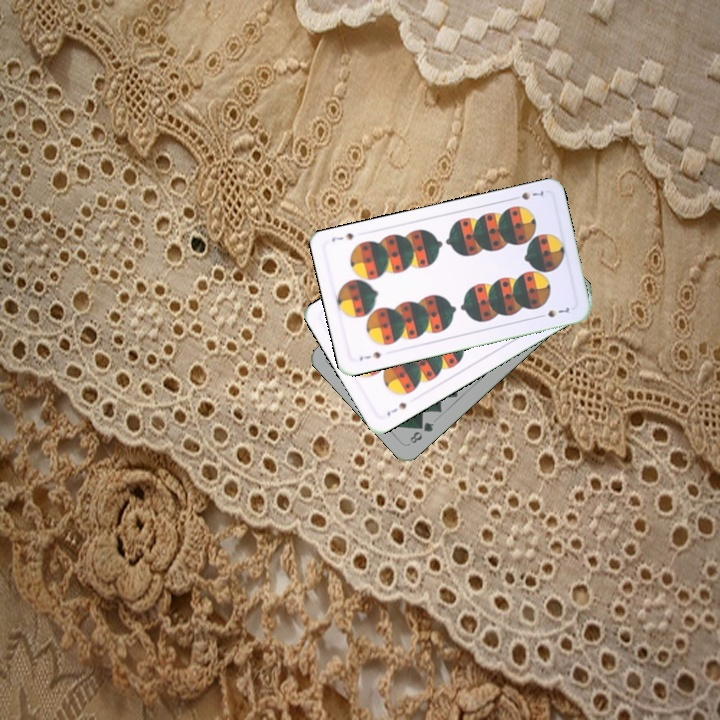G8: (406, 418, 436, 446)
S7: (508, 186, 548, 203), (383, 398, 409, 419), (355, 348, 384, 363)
